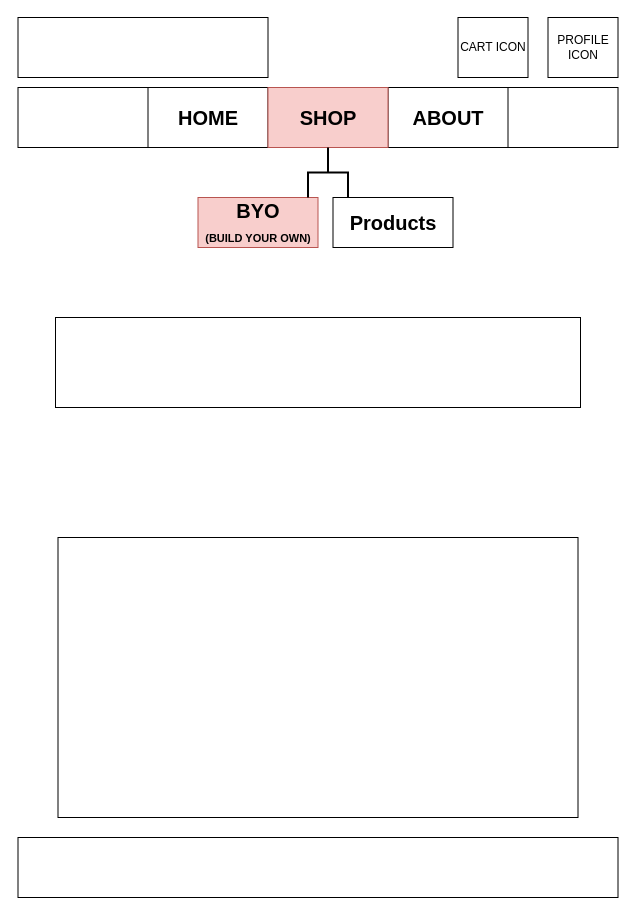
The diagram is 635 pixels wide and 915 high, and some of its shapes have lost their labels. Here are the shapes that lost their labels. From the top down, the box of each, then its label:
(17, 16, 268, 78): LOGO
(54, 316, 580, 408): ABOUT US
(57, 536, 578, 818): MAIN CONTENT
(17, 836, 618, 898): FOOTER
